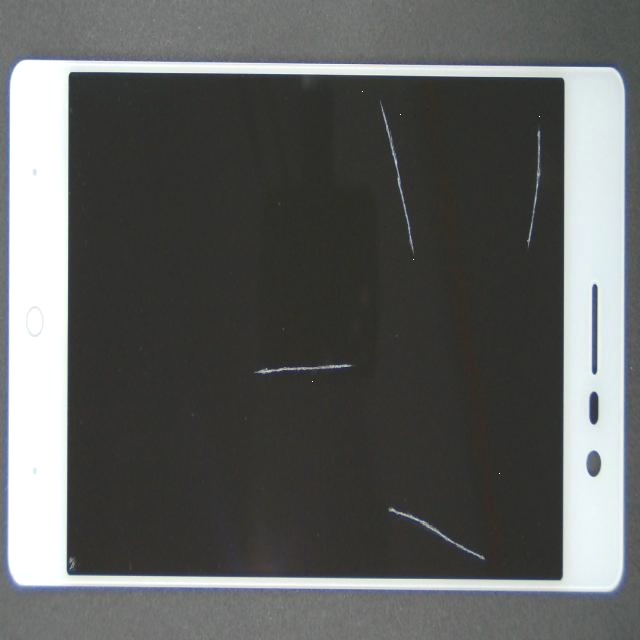scratch: (127, 225, 611, 640), (89, 190, 378, 572), (258, 126, 640, 378), (203, 42, 564, 131)
